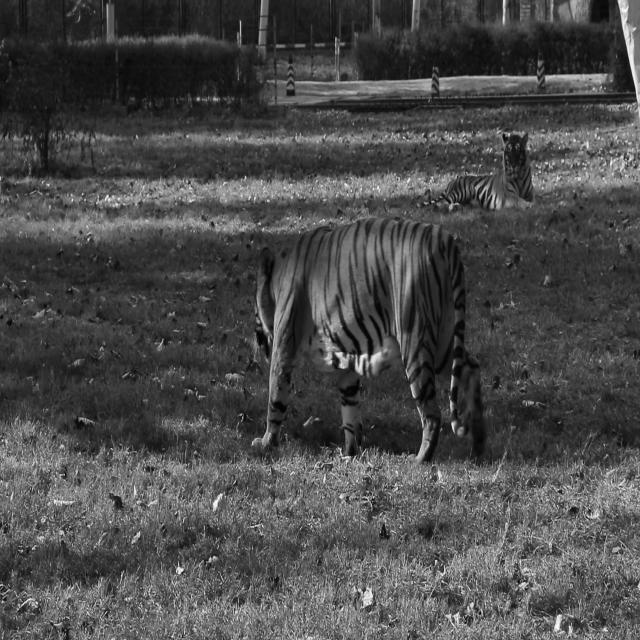Tiger: (250, 215, 485, 465), (425, 130, 536, 212)
